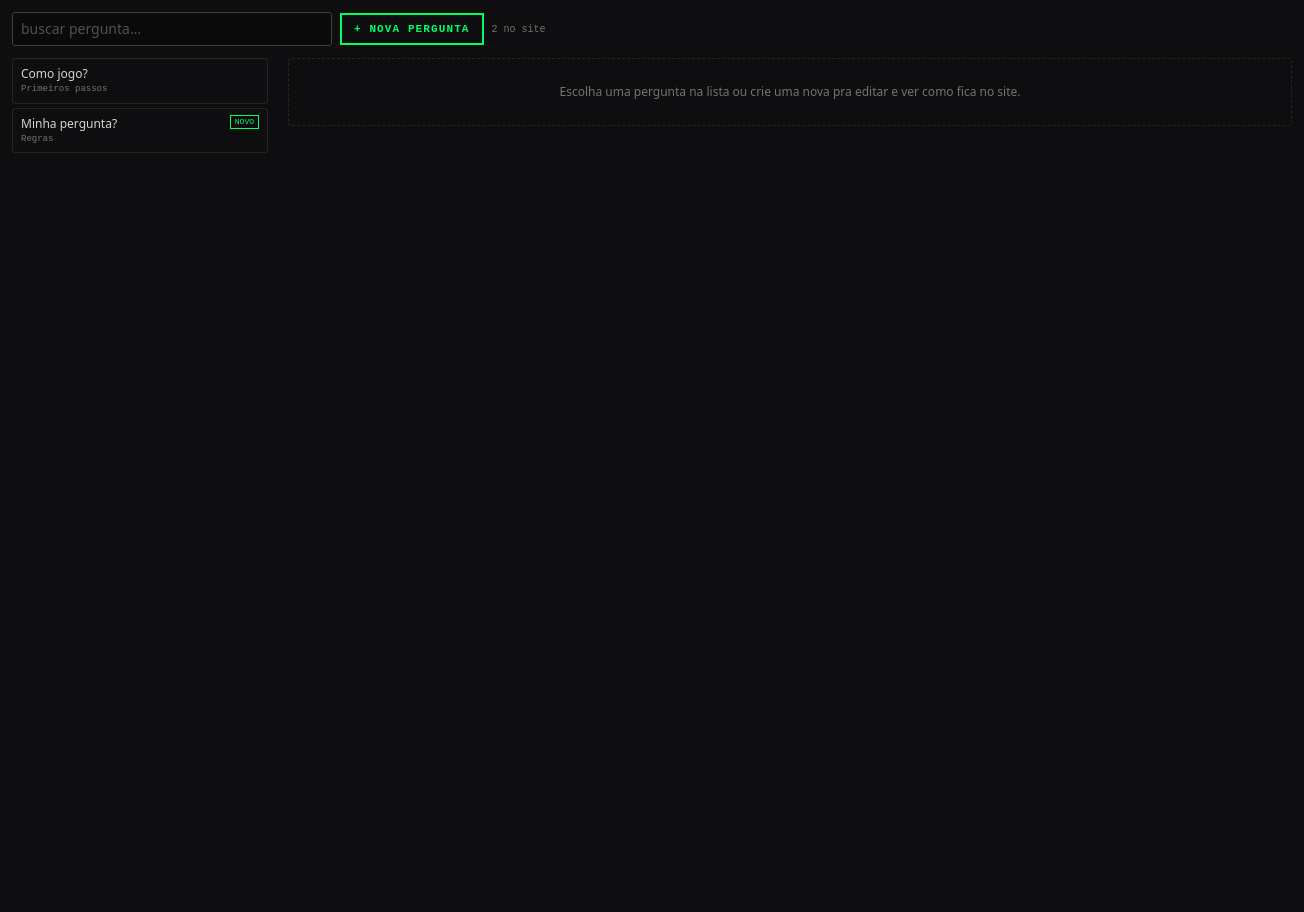
Test: EditorConteudo › mostra o erro devolvido pelo servidor
The image size is (1304, 912).
Click the text "Como jogo?" at (54, 74), box [21,65,88,82]
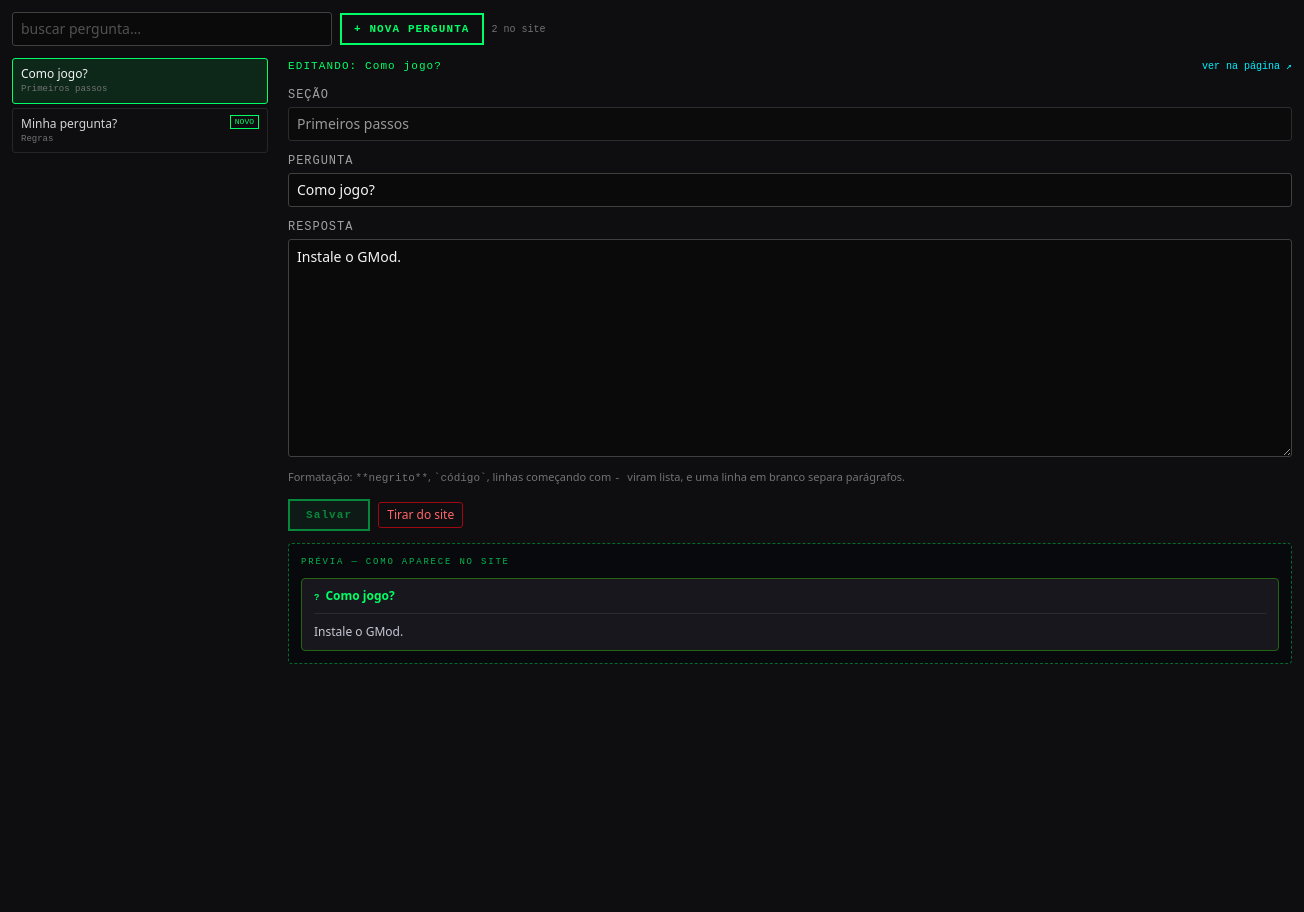
Replace the text in the text box labelled "Resposta" with "x" at (790, 348), box [288,238,1292,457]
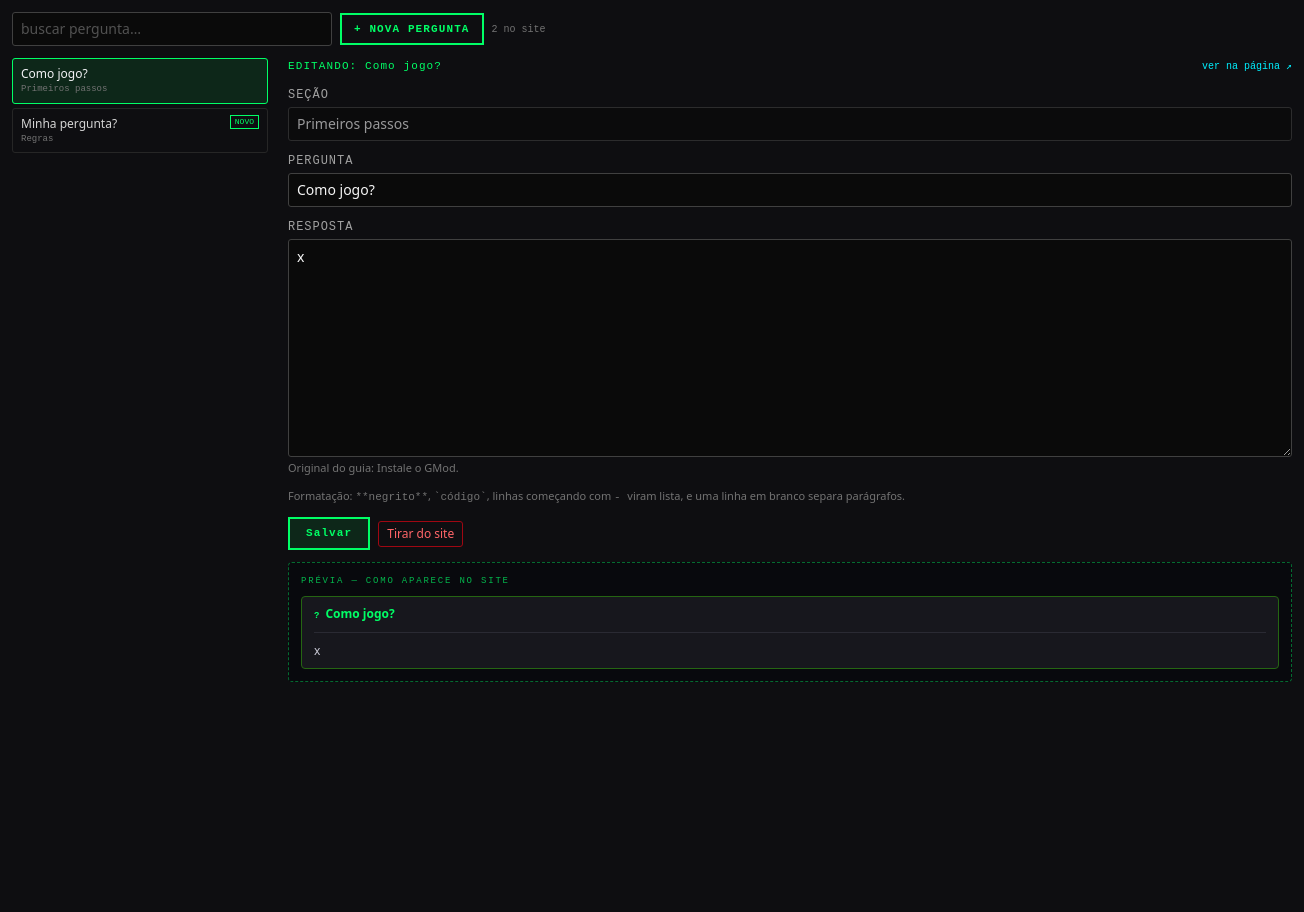
Click the button "Salvar" at (329, 534), box [288,517,370,550]
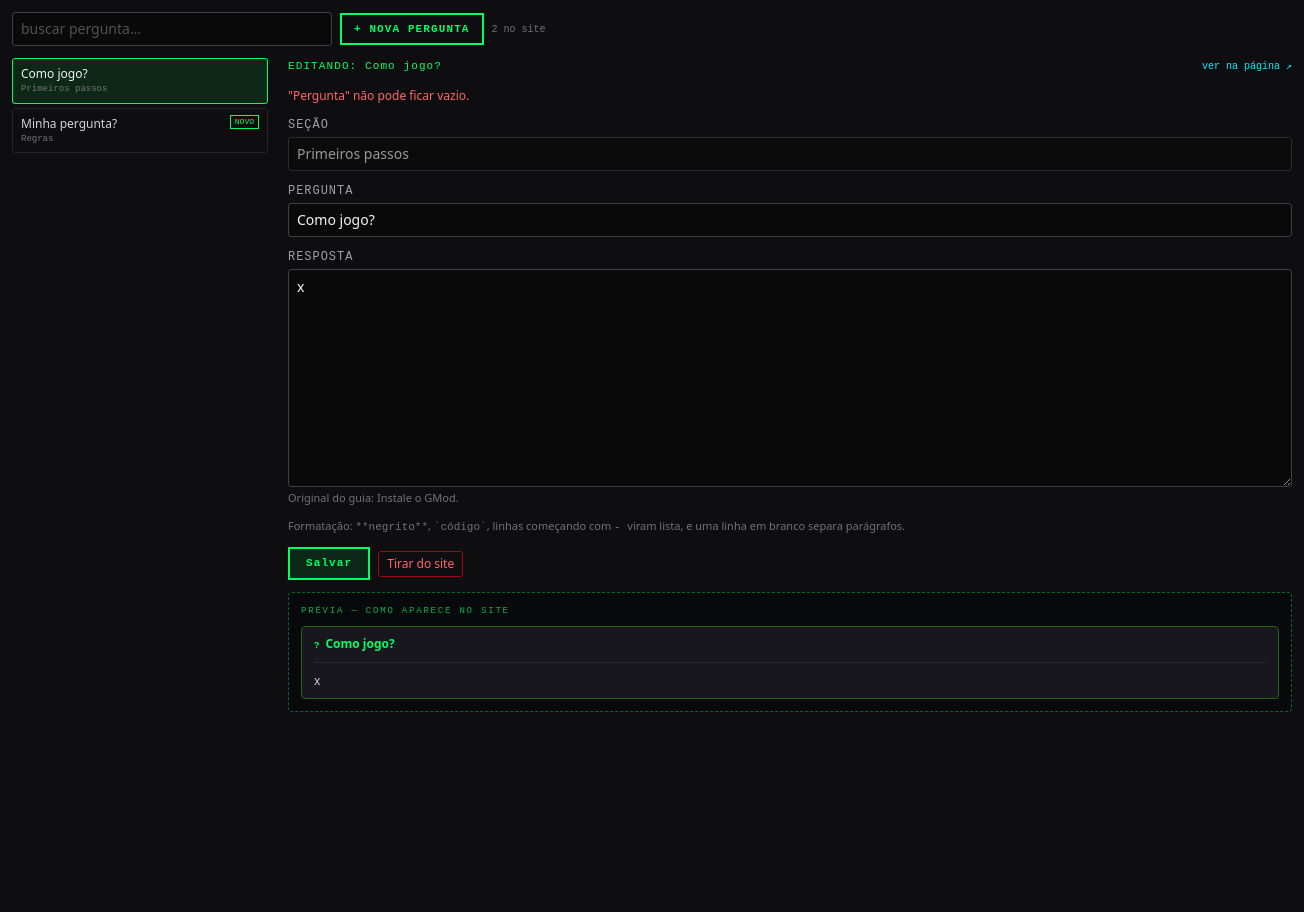
Expected: the message shows "não pode ficar vazio", [288,86,469,104]
